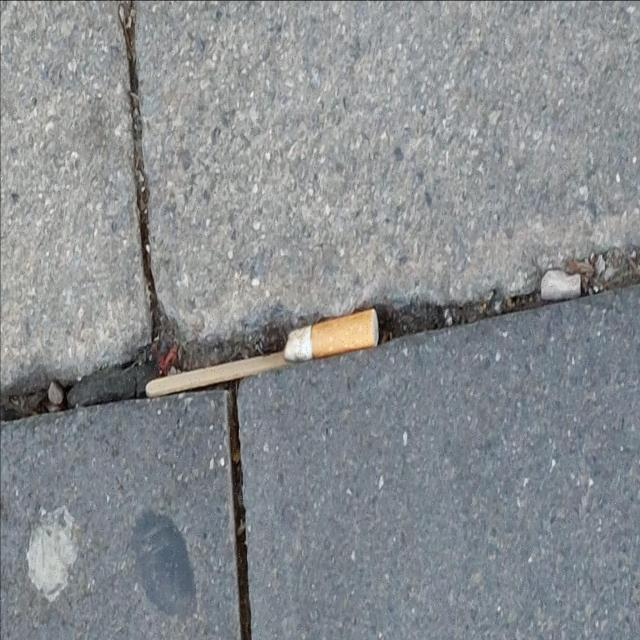other waste: (283, 307, 379, 363)
